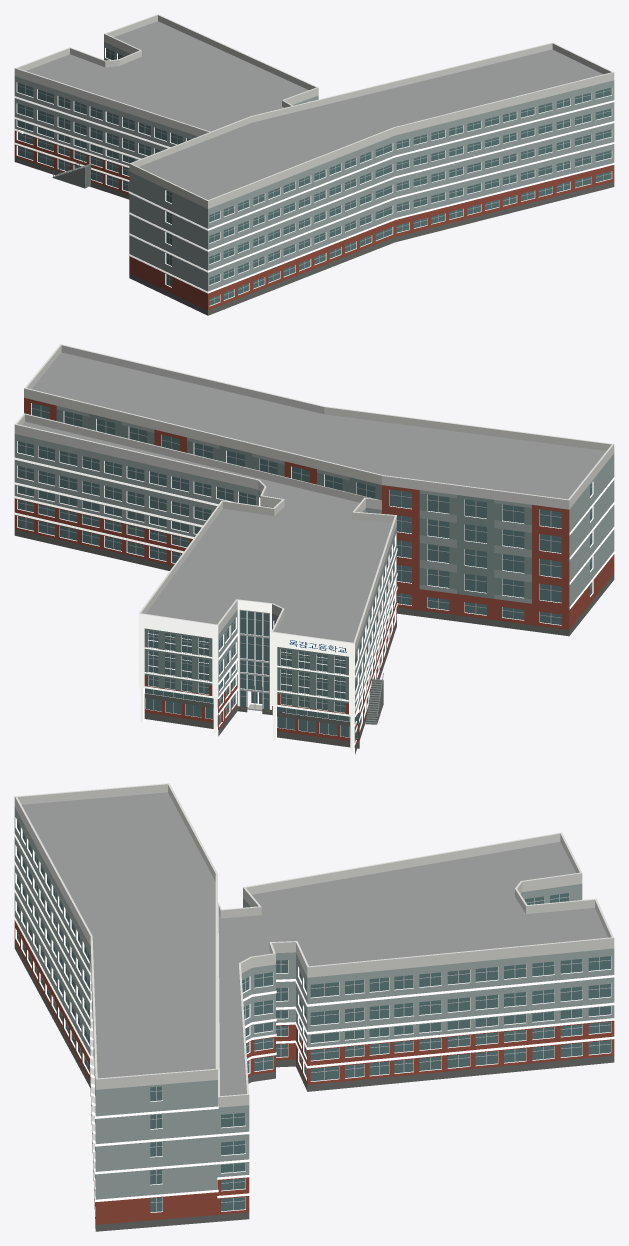
3 renders of one model, top to bottom at view 1: azimuth 30°, elevation 25°; view 2: azimuth 150°, elevation 25°; view 3: azimuth 270°, elevation 25°, orthographic. The views are drawn at different scales.
Visible parts, largest first — view 1: wing1-front__wall-plaster, wing1-front__roof, wing1-front__glass, wing1-front__parapet-concrete, wing1-front__trim-concrete, wing1-front__brick, wing1-front__base-stone, wing1-front__frame, wing1-front__exterior-stair-metal; view 2: wing1-front__roof, wing1-front__glass, wing1-front__parapet-concrete, wing1-front__wall-plaster, wing1-front__trim-concrete, wing1-front__brick, wing1-front__facade-blue-grey, wing1-front__frame, wing1-front__base-stone, wing1-front__exterior-stair-metal; view 3: wing1-front__roof, wing1-front__wall-plaster, wing1-front__glass, wing1-front__parapet-concrete, wing1-front__trim-concrete, wing1-front__brick, wing1-front__base-stone, wing1-front__frame.
Boxes of the visible parts, <box> form: wing1-front__wall-plaster: <box>14,42,614,291</box>; wing1-front__roof: <box>26,21,602,199</box>; wing1-front__glass: <box>17,48,611,305</box>; wing1-front__parapet-concrete: <box>14,14,614,208</box>; wing1-front__trim-concrete: <box>14,48,614,306</box>; wing1-front__brick: <box>14,130,614,310</box>; wing1-front__base-stone: <box>14,157,614,315</box>; wing1-front__frame: <box>17,50,611,303</box>; wing1-front__exterior-stair-metal: <box>52,161,90,188</box>; wing1-front__roof: <box>22,352,606,642</box>; wing1-front__glass: <box>17,403,592,742</box>; wing1-front__parapet-concrete: <box>14,344,614,652</box>; wing1-front__wall-plaster: <box>14,406,614,714</box>; wing1-front__trim-concrete: <box>14,403,614,751</box>; wing1-front__brick: <box>14,398,614,747</box>; wing1-front__facade-blue-grey: <box>56,409,531,711</box>; wing1-front__frame: <box>17,405,592,737</box>; wing1-front__base-stone: <box>14,529,614,754</box>; wing1-front__exterior-stair-metal: <box>365,673,383,724</box>; wing1-front__roof: <box>22,792,607,1096</box>; wing1-front__wall-plaster: <box>14,807,614,1199</box>; wing1-front__glass: <box>17,820,610,1212</box>; wing1-front__parapet-concrete: <box>14,783,614,1107</box>; wing1-front__trim-concrete: <box>14,817,614,1216</box>; wing1-front__brick: <box>14,920,614,1224</box>; wing1-front__base-stone: <box>14,942,614,1231</box>; wing1-front__frame: <box>16,820,610,1211</box>.
Size of the model in its own units: 82.61 by 19.75 by 70.65.
